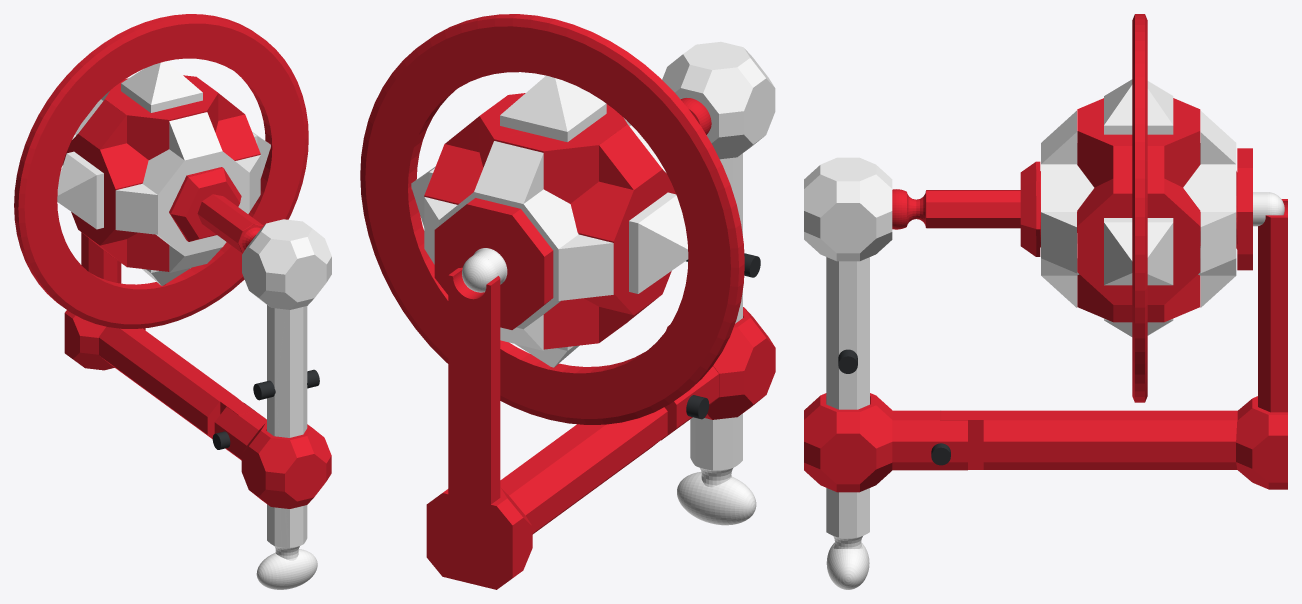
Rendered from tinker.obj.
The picture shows the model from 3 angles, left to right: view 1: azimuth 30°, elevation 25°; view 2: azimuth 150°, elevation 25°; view 3: azimuth 270°, elevation 25°; orthographic projection. The views are drawn at different scales.
Parts seen in each view (by area): view 1: group_0_15277357, group_0_16448250, group_0_2829873; view 2: group_0_15277357, group_0_16448250, group_0_2829873; view 3: group_0_15277357, group_0_16448250, group_0_2829873.
Boxes of the visible parts, bbox=[...] form: group_0_15277357: bbox=[14, 14, 331, 508]; group_0_16448250: bbox=[57, 61, 331, 589]; group_0_2829873: bbox=[212, 369, 319, 449]; group_0_15277357: bbox=[360, 14, 775, 589]; group_0_16448250: bbox=[411, 41, 775, 525]; group_0_2829873: bbox=[686, 253, 760, 419]; group_0_15277357: bbox=[804, 14, 1287, 492]; group_0_16448250: bbox=[804, 79, 1284, 589]; group_0_2829873: bbox=[838, 349, 950, 465].
Size of the model in its own units: 100 by 157 by 124.
